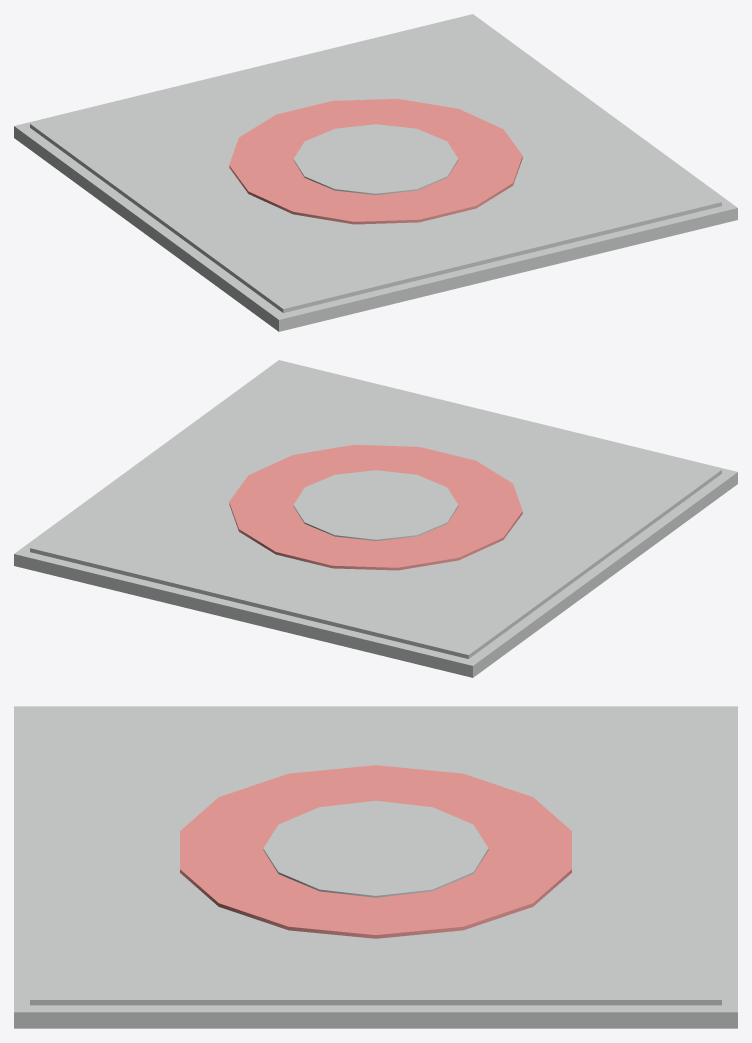
The model's file is rugShag.glb.
3 renders of one model, top to bottom at view 1: azimuth 30°, elevation 25°; view 2: azimuth 150°, elevation 25°; view 3: azimuth 270°, elevation 25°, orthographic. The views are drawn at different scales.
Parts seen in each view (by area): view 1: rugShag; view 2: rugShag; view 3: rugShag.
Part boxes in pixels (left/top/right/bottom): rugShag: left=14, top=14, right=737, bottom=331; rugShag: left=14, top=360, right=737, bottom=677; rugShag: left=14, top=706, right=737, bottom=1028.
Bounding box in the file's own units: 0.9 × 0.0375 × 0.9.
